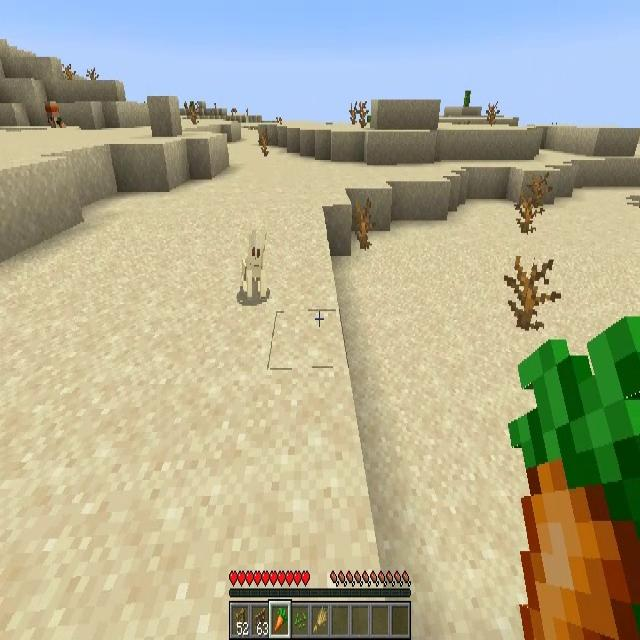rabbit: (240, 228, 267, 302)
